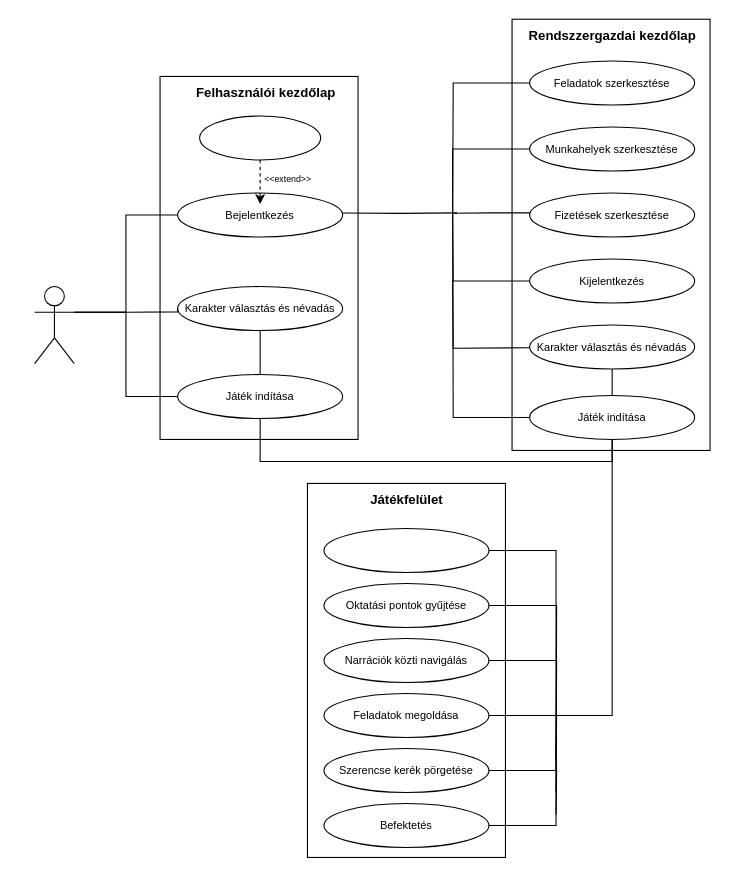
The diagram is 730 pixels wide and 877 high, and some of its shapes have lost their labels. Each missing label, with the centre of its shape:
"Döntések hozása" belongs at point (406, 550).
"Felhasználó" belongs at point (54, 324).
"Jelszó ellenőrzés" belongs at point (260, 137).
